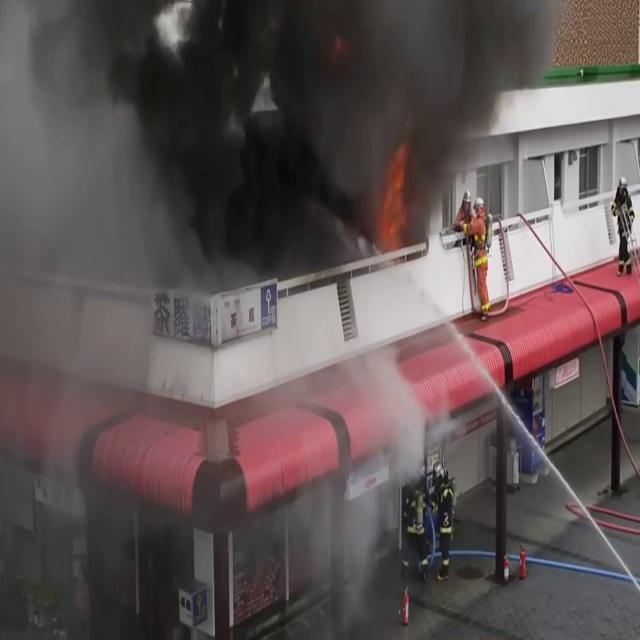Smoke: (11, 0, 548, 267)
